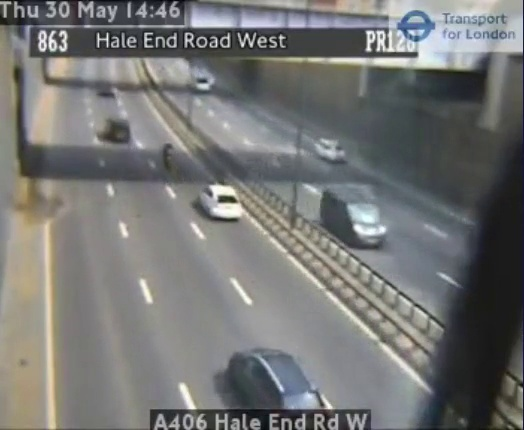car: (230, 349, 324, 410), (198, 184, 240, 219)
